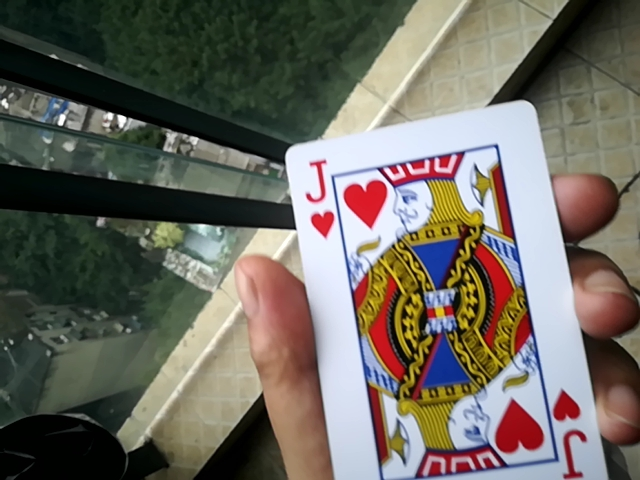hx j: (275, 103, 616, 478)
